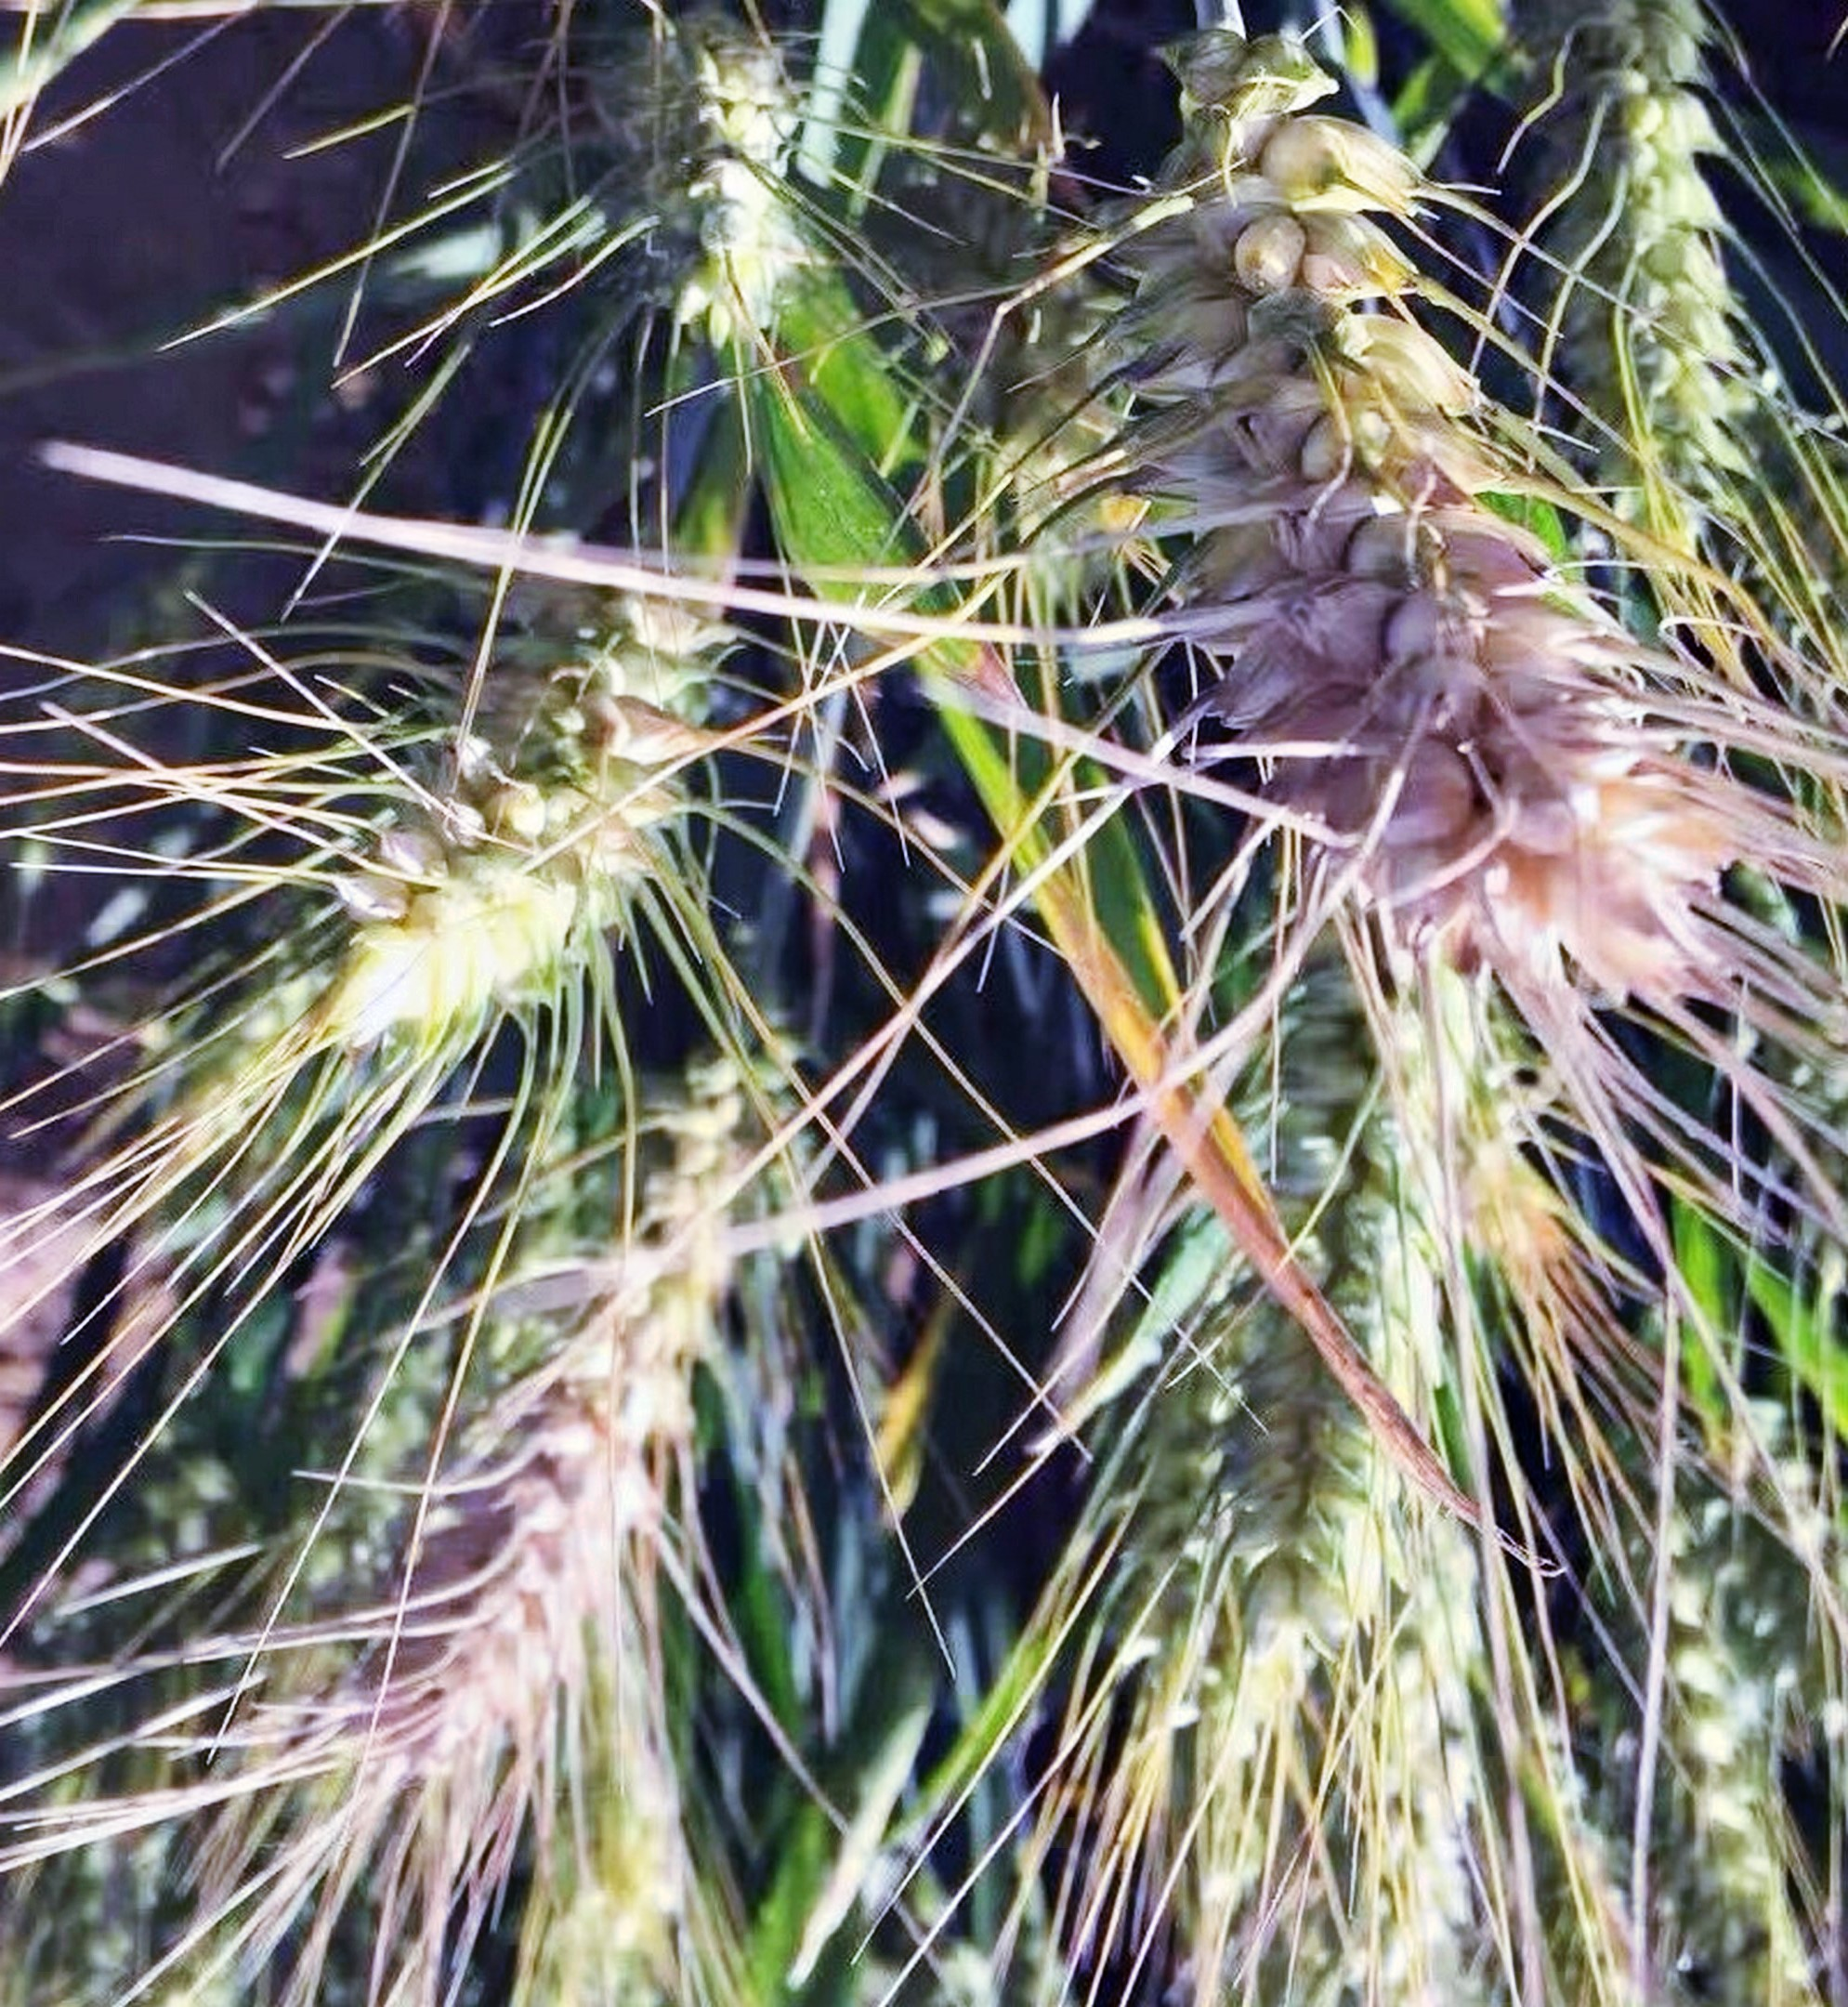Wheat scab: (1136, 63, 1727, 1079)
